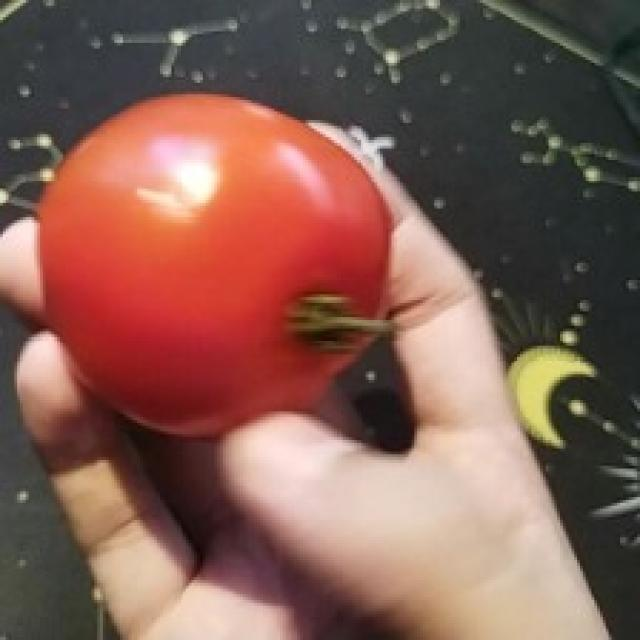Fresh Tomato: (21, 84, 418, 450)
